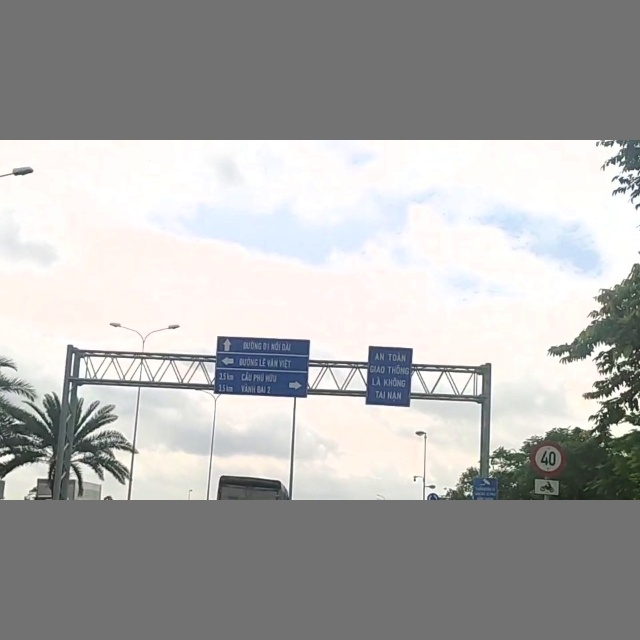P.127*40: (531, 439, 565, 476)
S.505a*Xe may: (533, 478, 561, 496)
